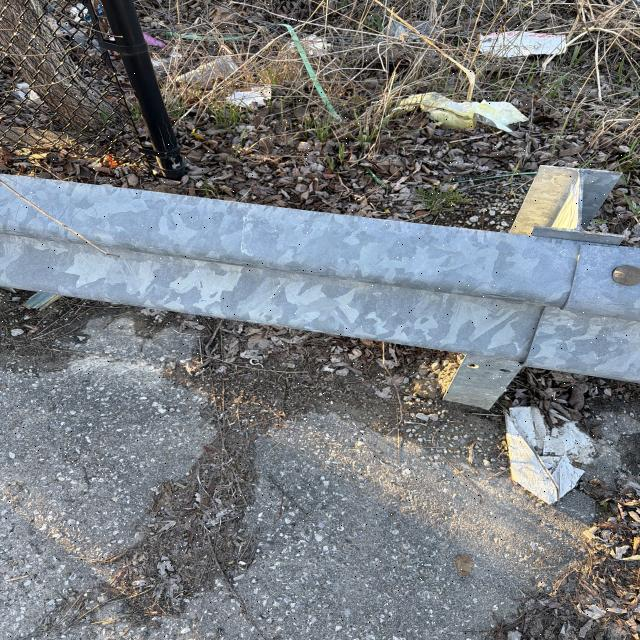Guard rail: (8, 184, 606, 354)
